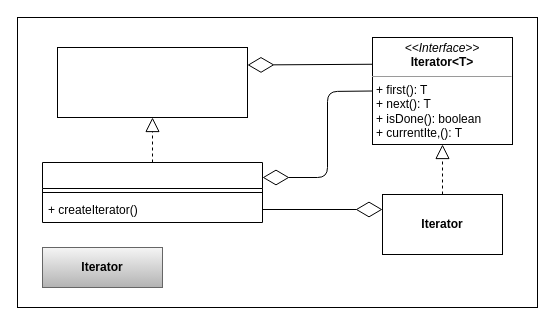
Some shapes in this 555 by 325 pixel diagram are drawn without their labels. Here are the shapes that lost their labels. From the top down, the box of each, then its label:
(56, 46, 248, 118): <<Interface>> Aggregate + createIterator()
(42, 162, 262, 222): ConcreteAggregate
